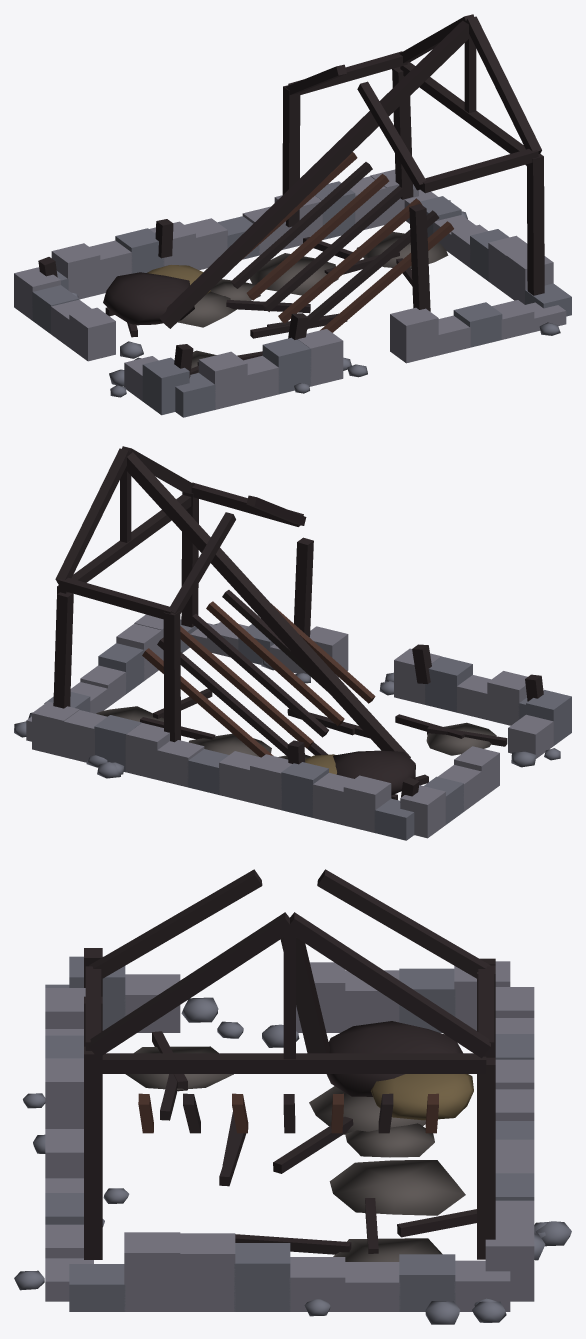
Rendered from burned_barn.glb.
3 renders of one model, top to bottom at view 1: azimuth 30°, elevation 25°; view 2: azimuth 150°, elevation 25°; view 3: azimuth 270°, elevation 25°, orthographic. The views are drawn at different scales.
Parts seen in each view (by area): view 1: foot_n0; view 2: foot_n0; view 3: foot_n0.
Boxes of the visible parts, bbox=[...] form: foot_n0: bbox=[14, 14, 571, 417]; foot_n0: bbox=[14, 446, 571, 840]; foot_n0: bbox=[14, 869, 571, 1324].
Size of the model in its own units: 9.87 by 5.37 by 7.1.
